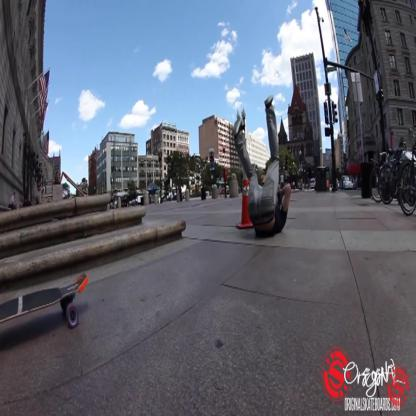Fall_Down: (233, 93, 292, 242)
